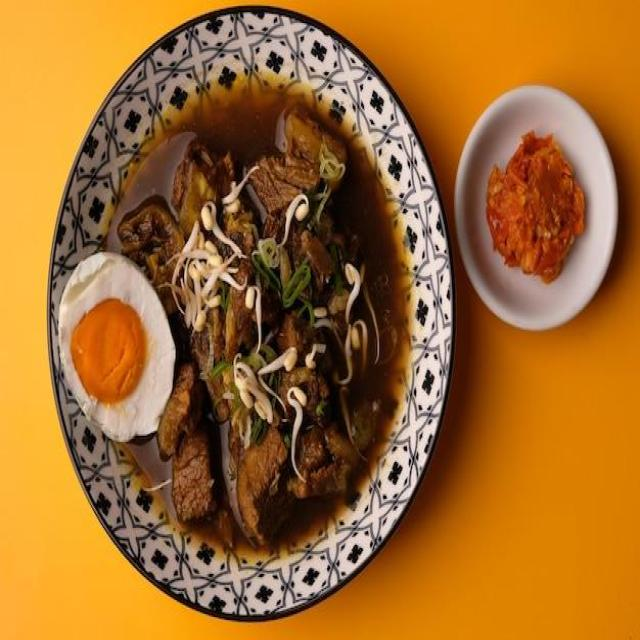Rawon: (108, 98, 401, 559)
